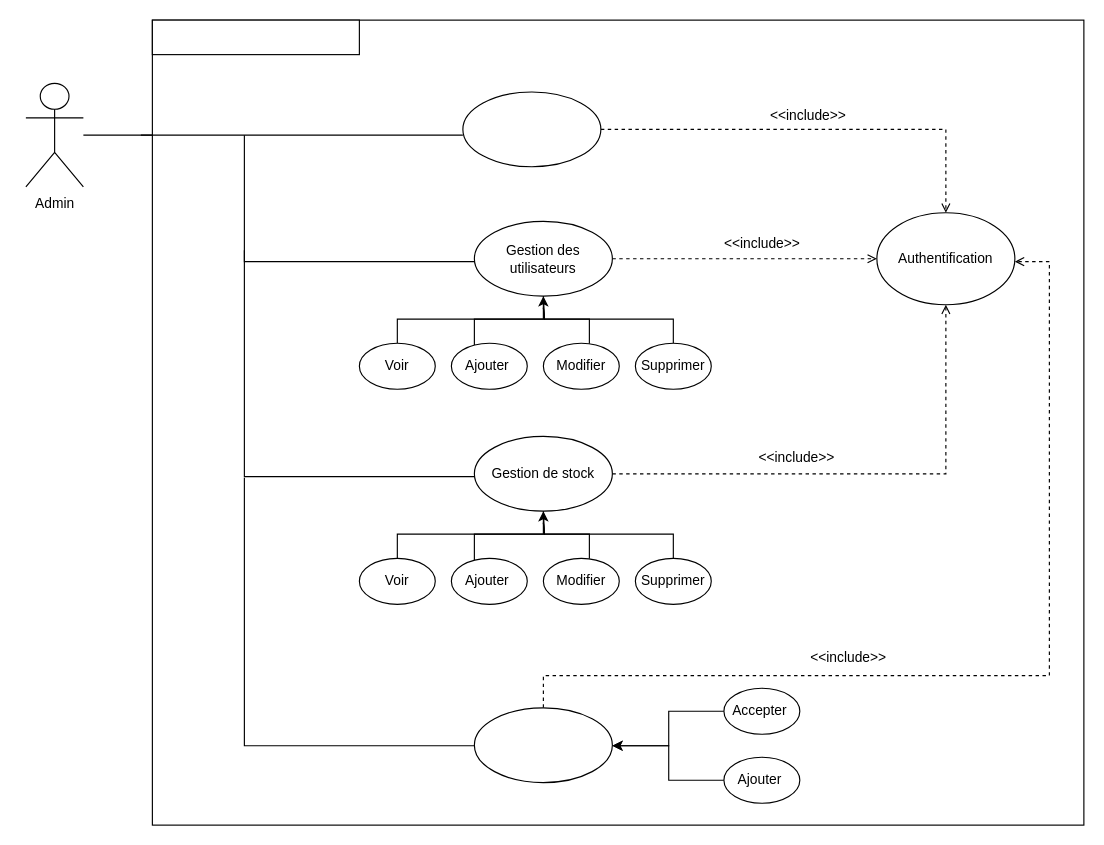
This 1104x845 diagram has some shape labels left out. The box of each missing label's shape, as (x1, y1, x2, y2) in pixels:
Gestion des demandes d'affectations: (473, 707, 612, 783)
Gestion du stock: (151, 19, 359, 55)
Voir et modifier leur profile: (462, 91, 601, 167)
